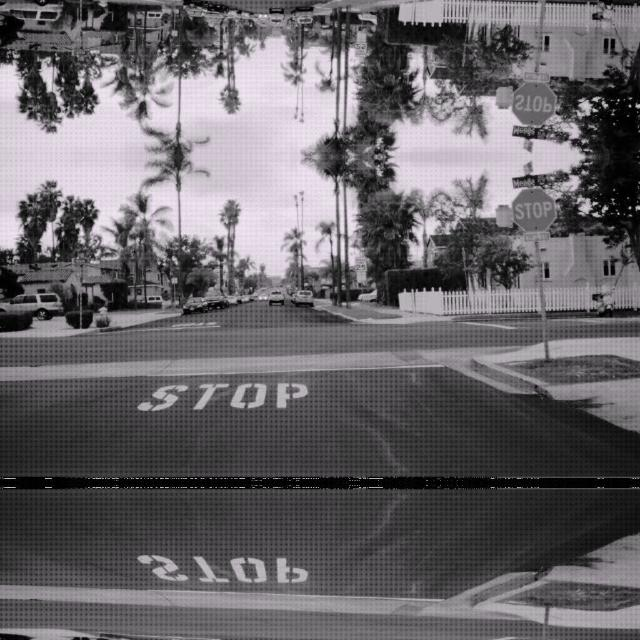stop: (510, 185, 556, 231), (510, 81, 556, 127)
